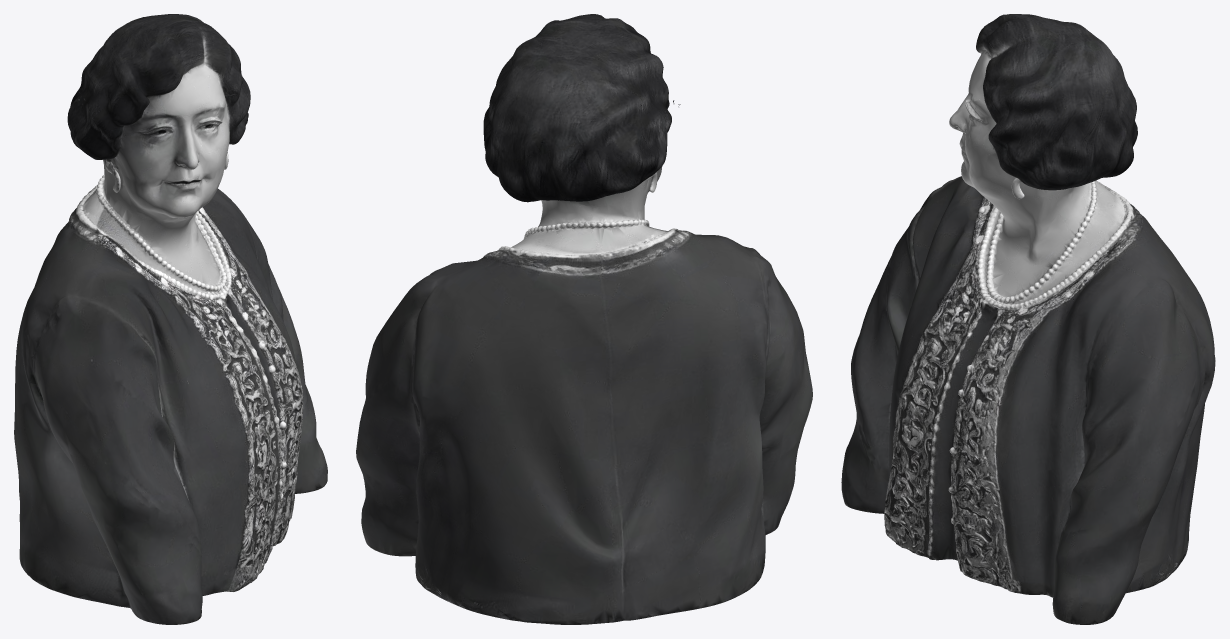
The model's file is carmen-burgos.glb.
The picture shows the model from 3 angles, left to right: view 1: azimuth 30°, elevation 25°; view 2: azimuth 150°, elevation 25°; view 3: azimuth 270°, elevation 25°; orthographic projection. The views are drawn at different scales.
Size of the model in its own units: 1.32 by 1.9 by 1.24.
Materials: 1 (1 with a texture image).
